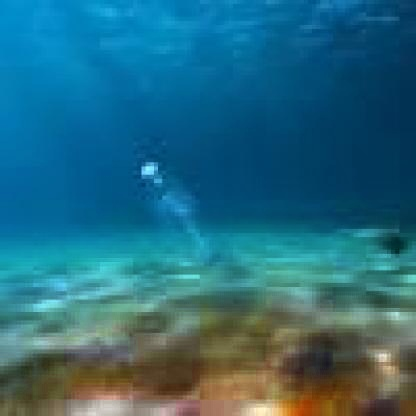pbottle: (121, 150, 237, 274)
